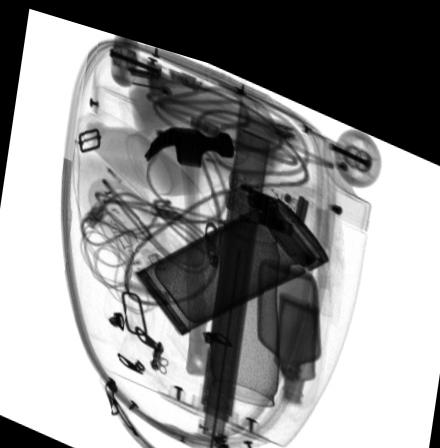Hammer: (141, 116, 234, 364)
